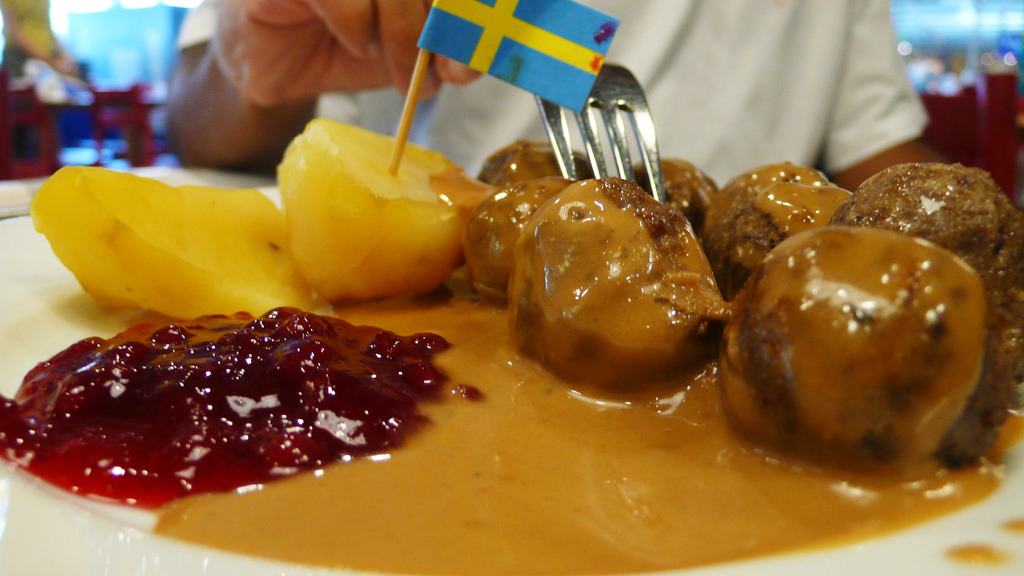boiled potatoes: (283, 98, 481, 306), (60, 149, 278, 334)
meatballs: (729, 159, 978, 426), (519, 198, 693, 383)
